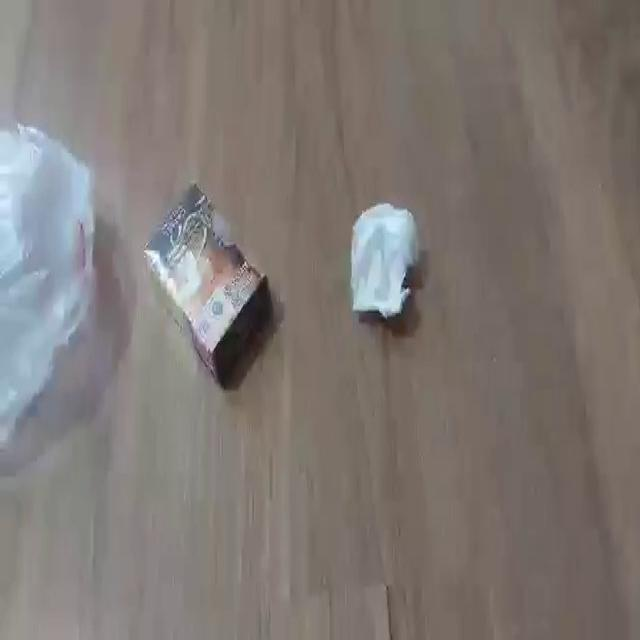Anorganik: (1, 111, 98, 454)
Organik: (139, 176, 277, 394), (350, 191, 421, 327)
